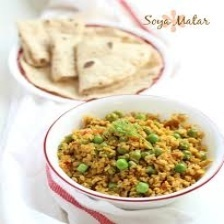roti: (16, 19, 163, 96)
